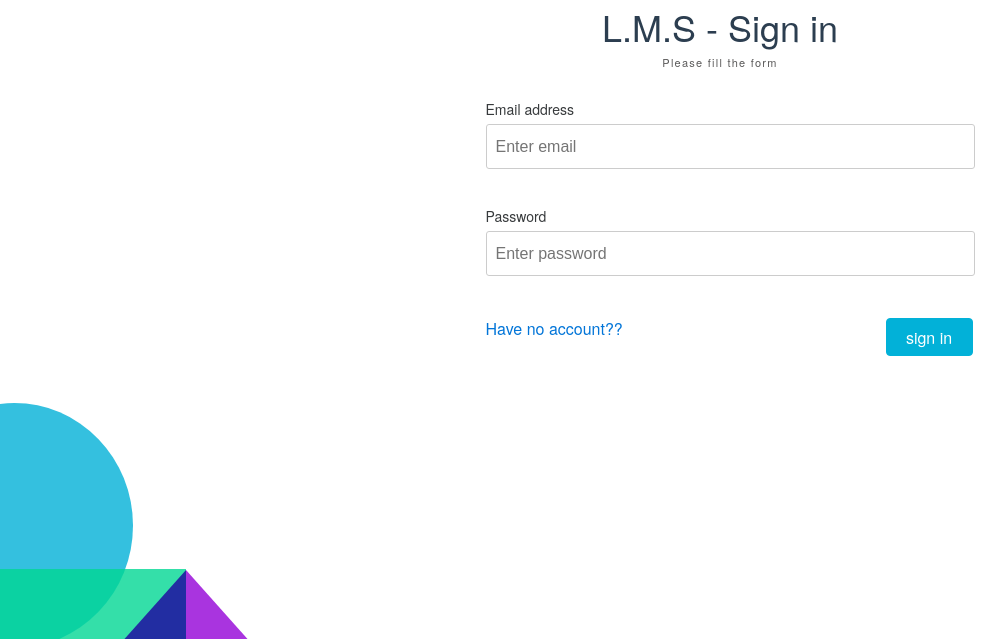
Test:  › should show error on submit without providing email and password
Expected: the field labelled "email" is empty, [496, 134, 964, 159]
Expected: the password field labelled "password" is empty, [496, 241, 964, 266]
Click the button with aria-label "submit": (929, 337) [886, 318, 972, 356]
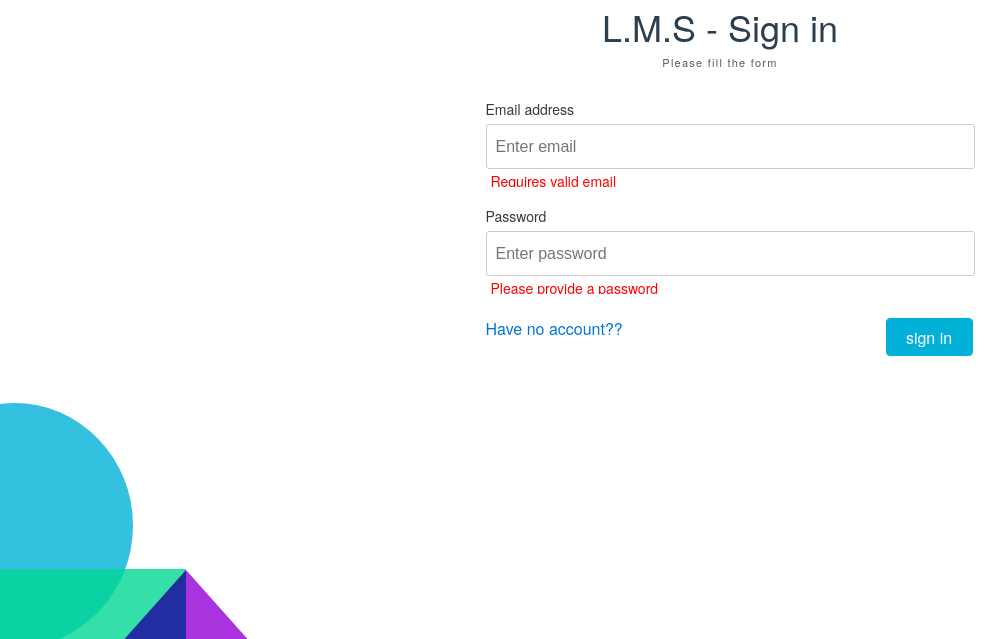
Expected: the text named "passwordError" reads "Please provide a password", [490, 278, 658, 298]
Expected: the text named "emailError" reads "Requires valid email", [490, 171, 616, 191]
